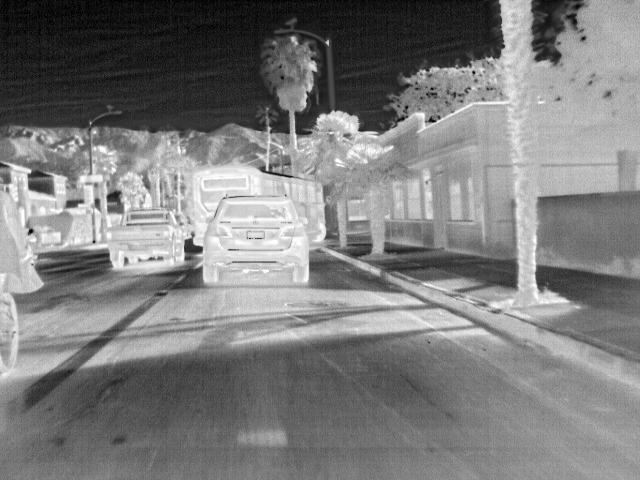car: (202, 195, 311, 285), (108, 208, 186, 268), (179, 215, 195, 240)
person: (1, 179, 28, 291)
